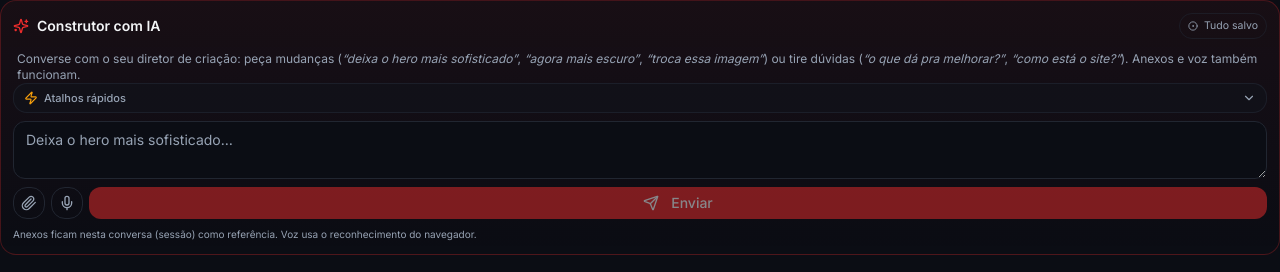
Gravador de voz do chat — só transcreve ao PARAR e UMA vez (silêncio não finaliza) › 6) nova gravação é independente e soma na ordem (sem misturar)
Click the button titled "Gravar com voz" at (67, 203), box [51, 187, 83, 219]
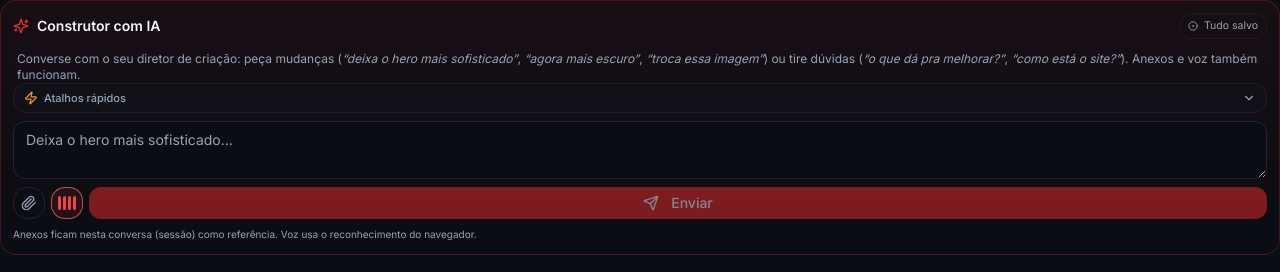
Click the button titled "Parar gravação" at (67, 203), box [51, 187, 83, 219]
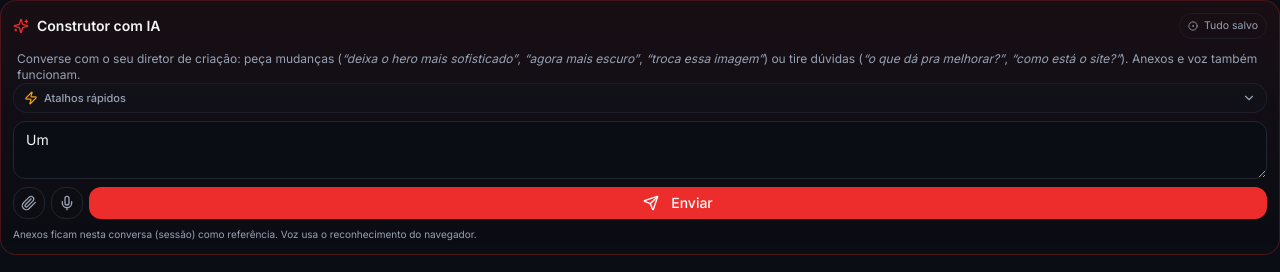
Now the text box with placeholder "Deixa o hero mais sofisticado…" holds "Um", box [13, 121, 1267, 179]
Click the button titled "Gravar com voz" at (67, 203), box [51, 187, 83, 219]
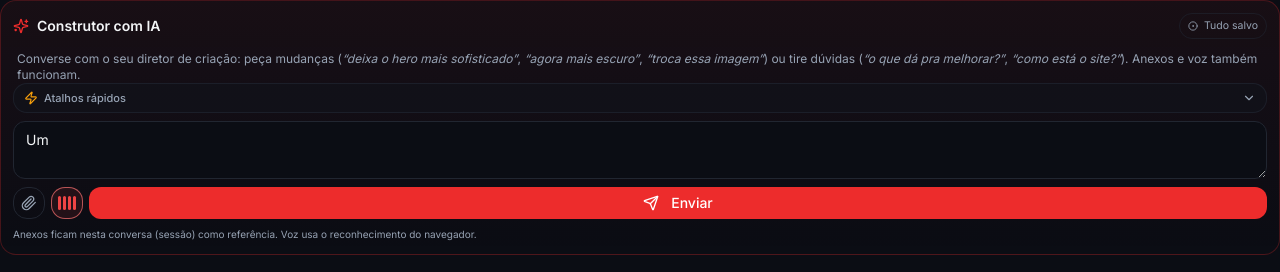
Click the button titled "Parar gravação" at (67, 203), box [51, 187, 83, 219]
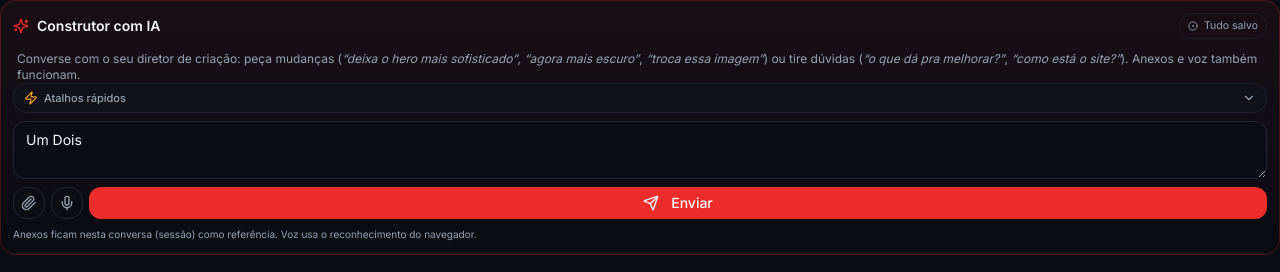
Now the text box with placeholder "Deixa o hero mais sofisticado…" holds "Um Dois", box [13, 121, 1267, 179]
